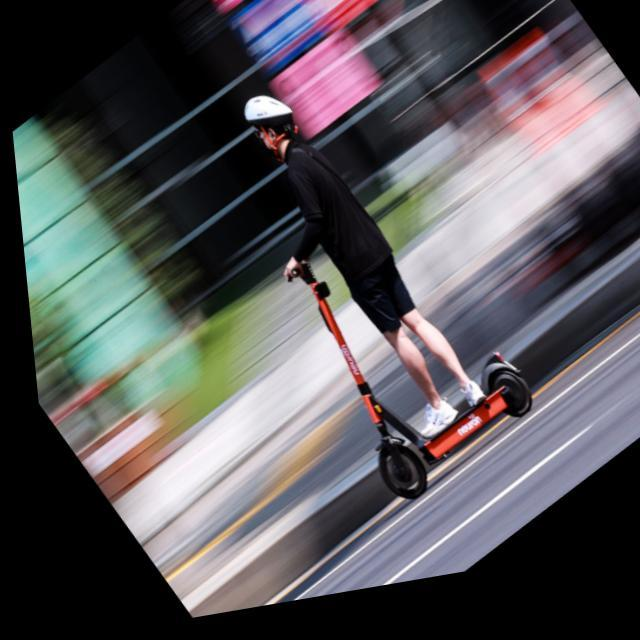Helmet: (240, 92, 301, 164)
